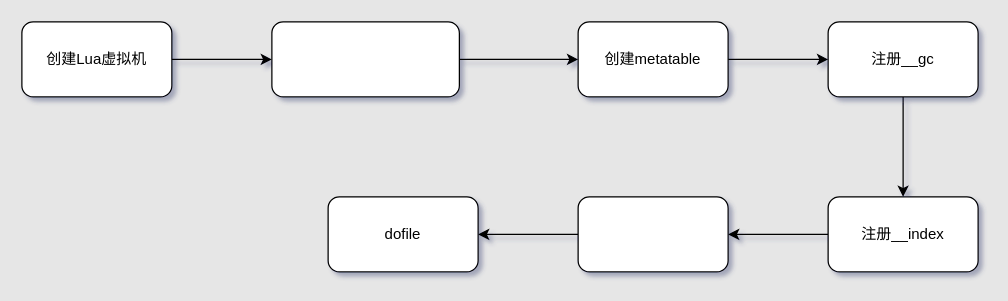
Image size: 1008x301. Some labels were removed from this diagram. Each missing label, with the centre of its shape:
注册__newindex: pixel 652 234
注册构造函数: pixel 365 59
